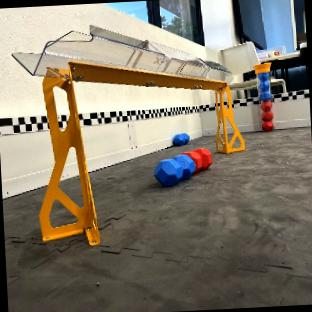V5_BLUE: (155, 154, 194, 186), (173, 133, 188, 145)
V5_RED: (183, 148, 211, 171), (262, 100, 272, 129)
